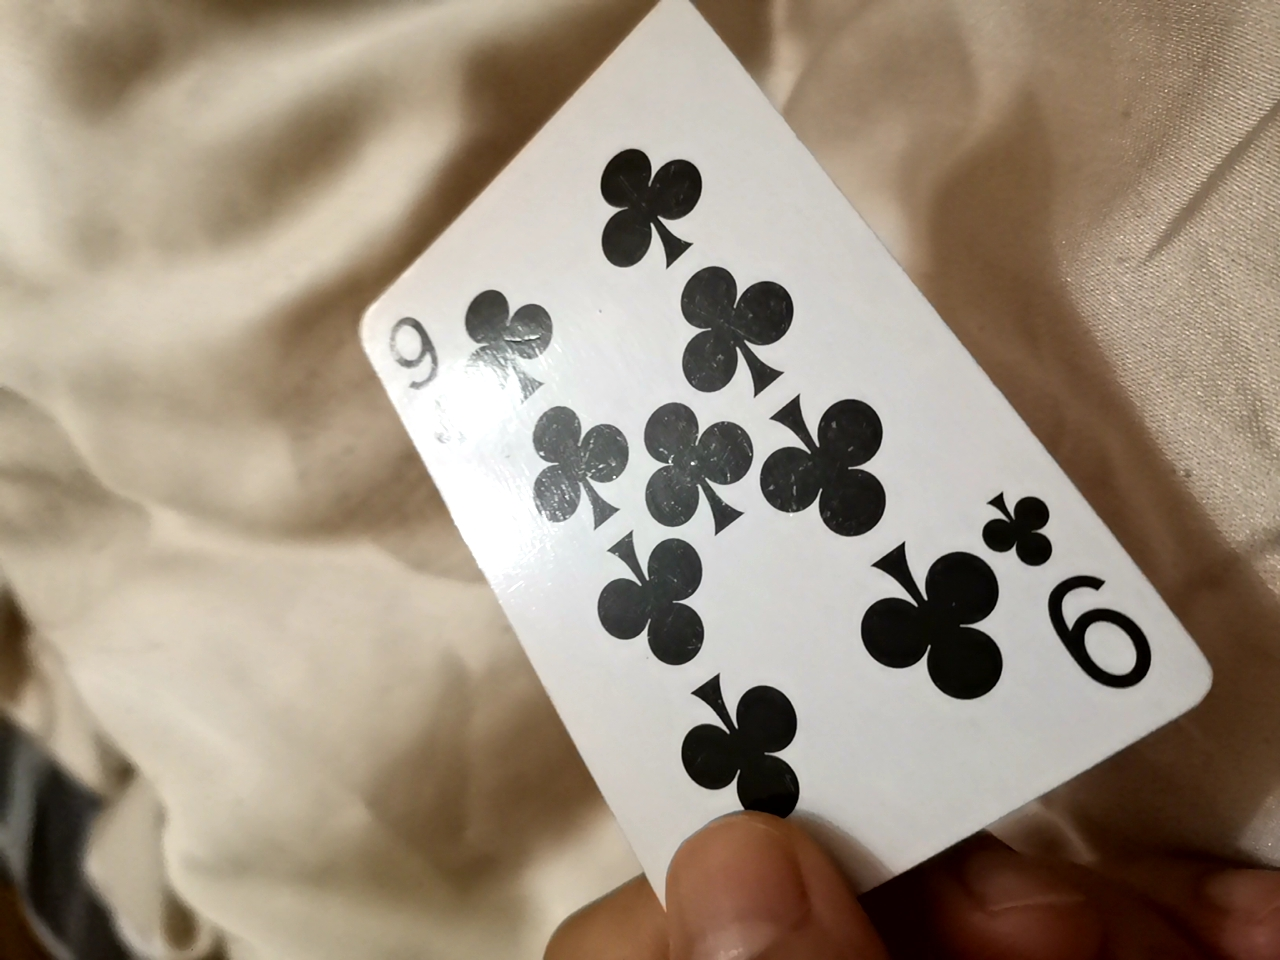mh 9: (318, 9, 1188, 914)
